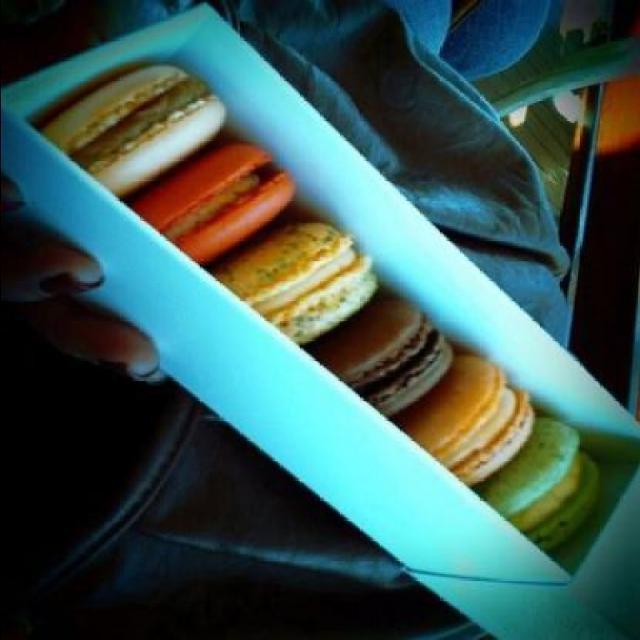Macaron: (45, 66, 607, 557)
